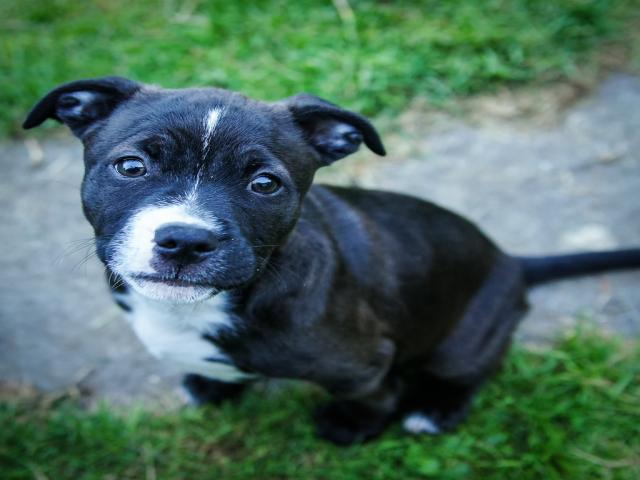Dog: (20, 73, 640, 450)
